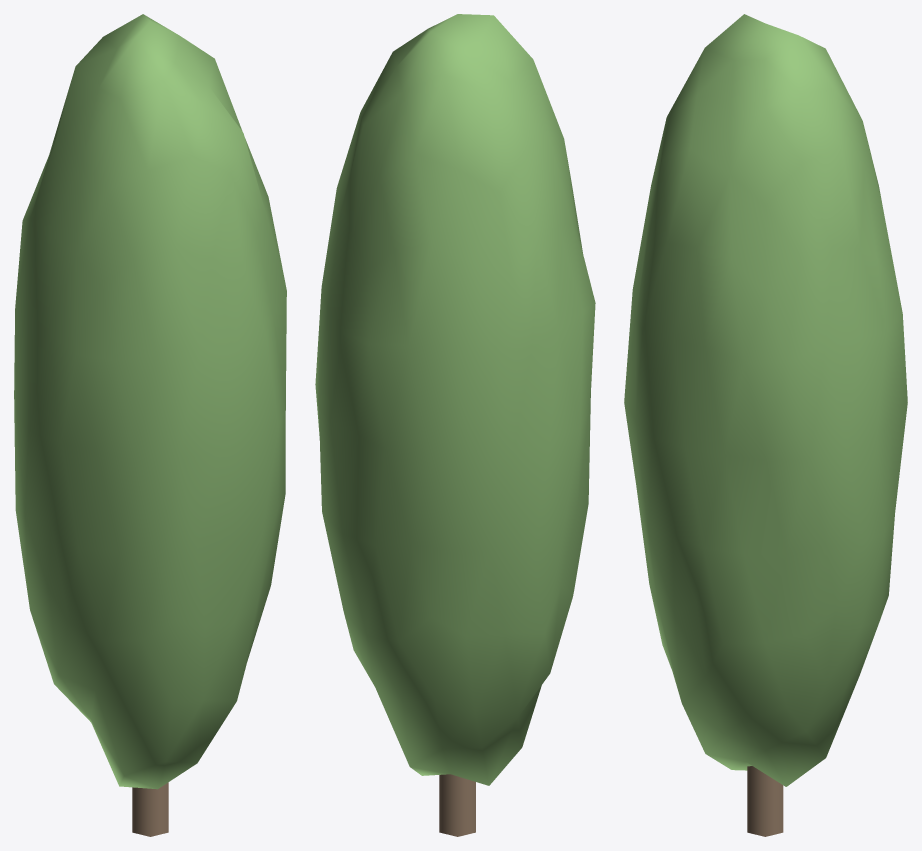
Rendered from tree_cypress.glb.
3 views of the same model, side by side, from view 1: azimuth 30°, elevation 25°; view 2: azimuth 150°, elevation 25°; view 3: azimuth 270°, elevation 25° (orthographic).
Parts seen in each view (by area): view 1: tree_cypress; view 2: tree_cypress; view 3: tree_cypress.
Boxes of the visible parts, x1,y1,x2,y2 form: tree_cypress: (14, 14, 286, 836); tree_cypress: (315, 14, 595, 836); tree_cypress: (624, 14, 907, 836).
Bounding box in the file's own units: 2.13 × 6.8 × 2.17.
